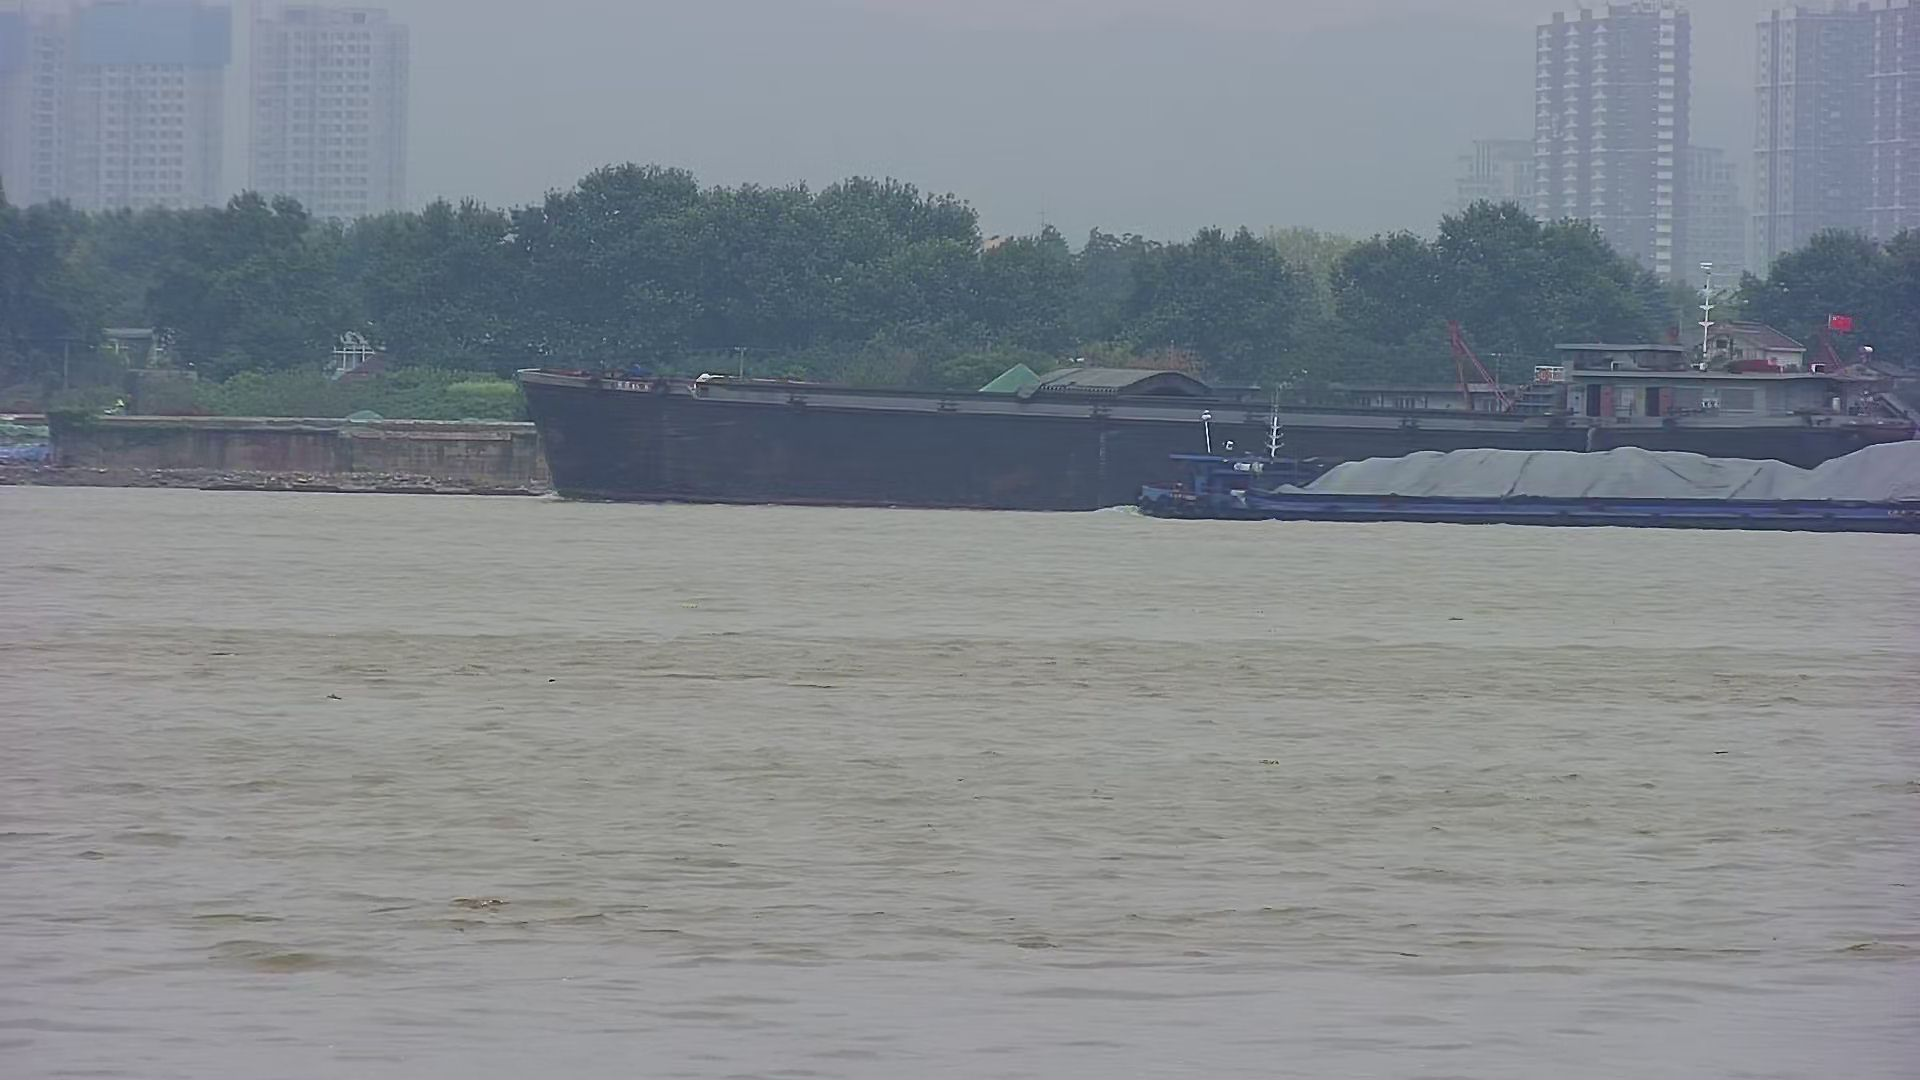ship: (524, 257, 1912, 512), (1120, 396, 1920, 539)
